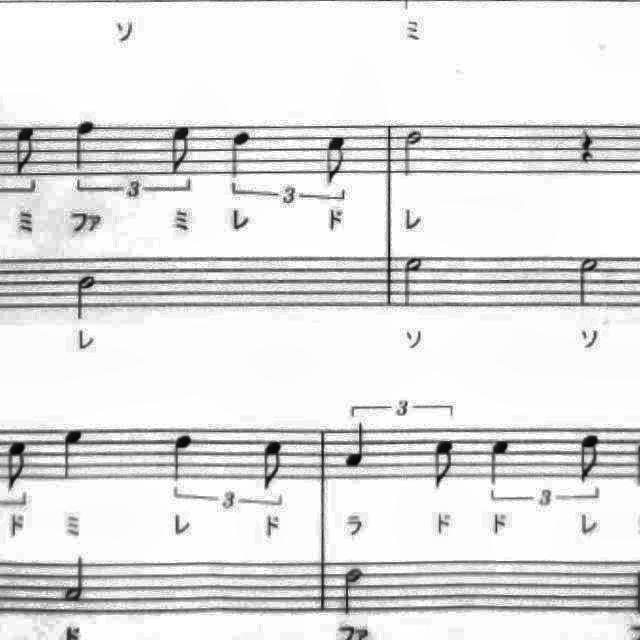Eighth-note: (426, 434, 464, 496), (0, 434, 36, 498), (255, 434, 292, 496), (572, 428, 608, 489), (320, 132, 356, 192), (6, 119, 42, 179), (166, 120, 202, 177)
Half-note: (572, 249, 608, 313), (336, 563, 372, 621), (398, 250, 430, 314), (58, 552, 94, 608), (71, 268, 105, 324), (398, 123, 429, 181)
Quarter-note: (54, 422, 92, 486), (480, 432, 518, 492), (166, 427, 202, 487), (338, 418, 376, 474), (224, 122, 258, 182), (70, 117, 102, 175), (627, 435, 640, 497), (639, 435, 640, 497)
Quarter-rest: (571, 121, 601, 169)
